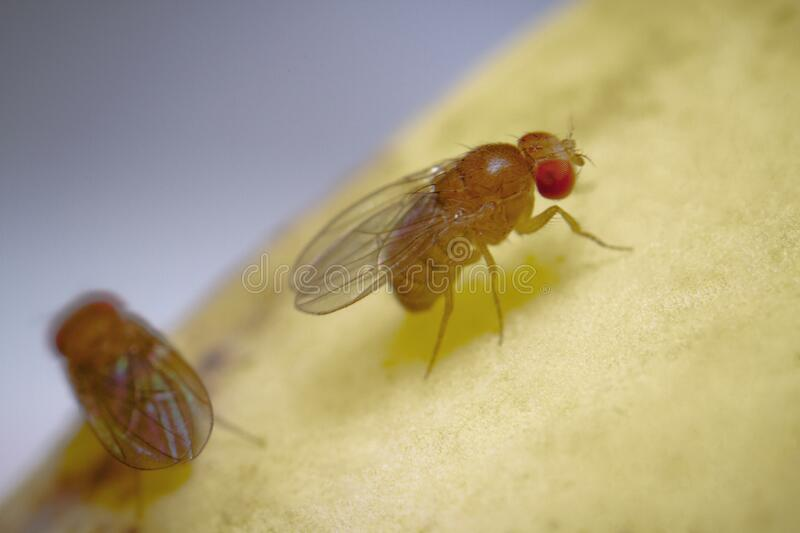Fruit fly: (356, 109, 615, 308)
